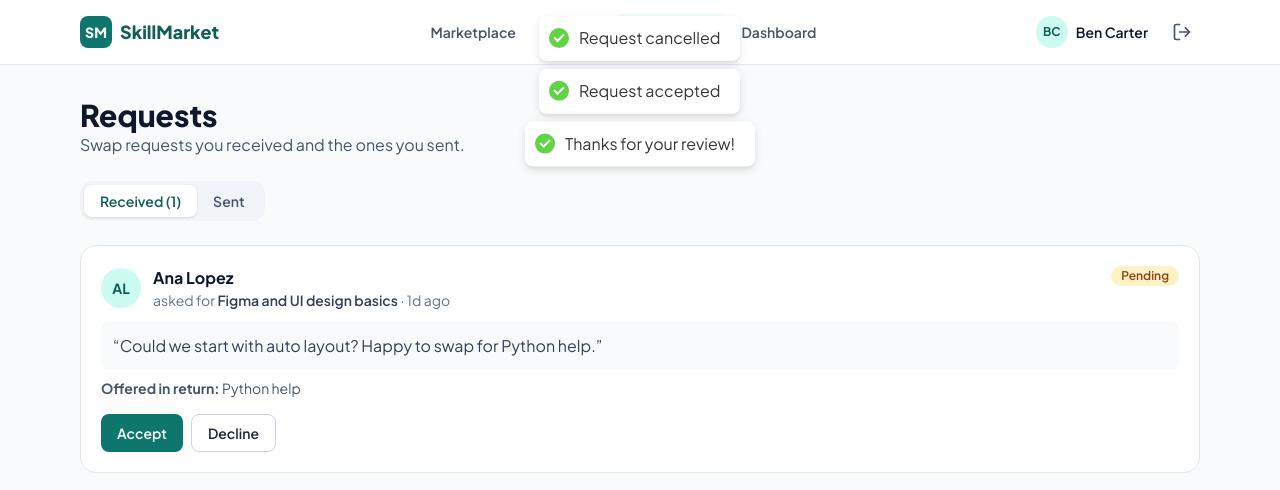
Test case: handling requests and reviews › declining removes the action buttons
Step 1. Click the button "Decline" → [233, 433], box [191,414,276,452]
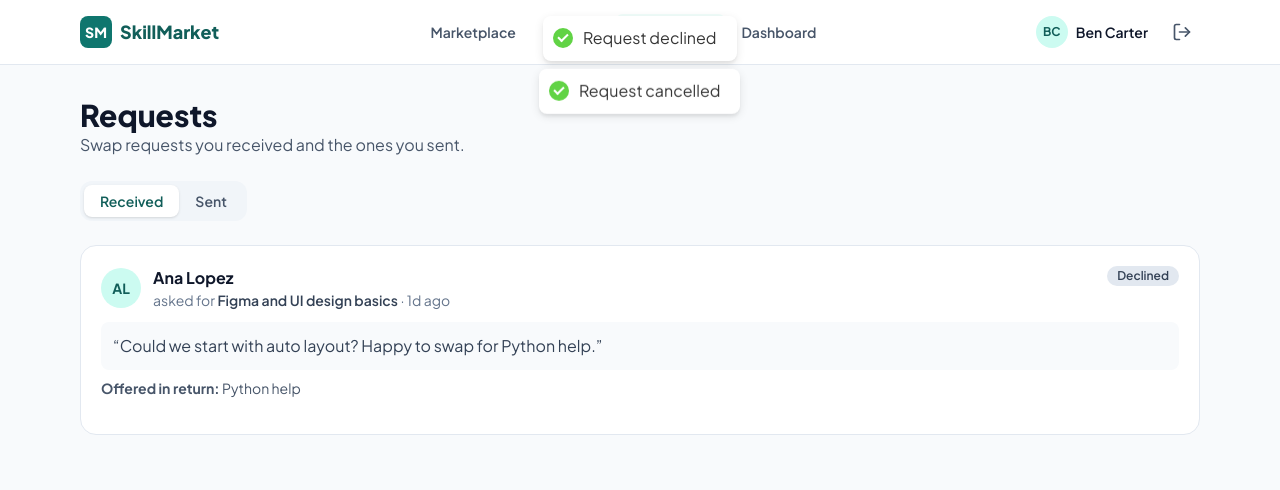
expect the text "Declined" is shown: met, box [1107,266,1179,286]
expect the button "Accept" is gone: met
